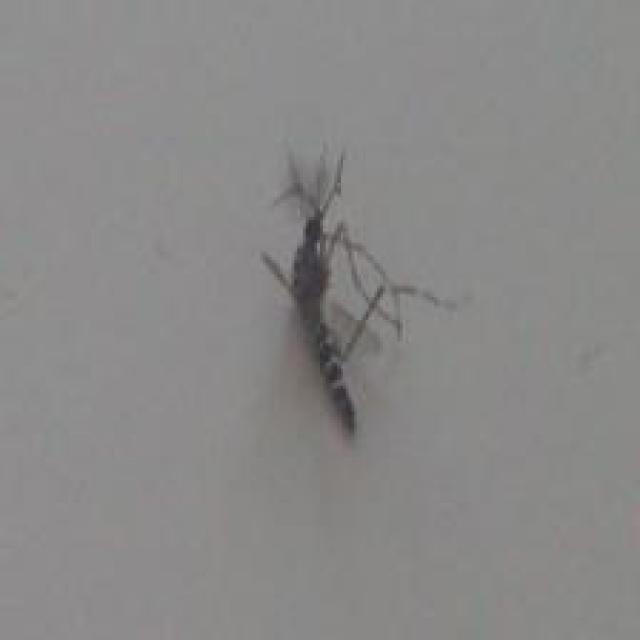Aedes albopictus: (258, 140, 458, 437)
